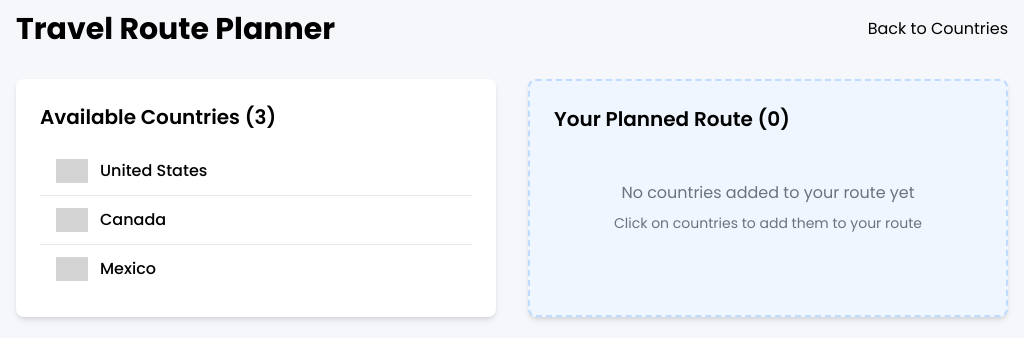
Test case: CountryRoutePlanner › removes country from route when delete button clicked
Click the text "United States": {"x": 154, "y": 171} [100, 159, 207, 183]
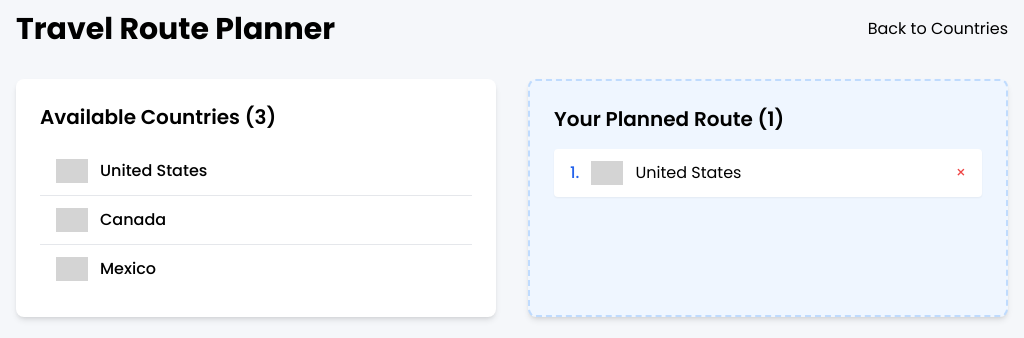
Click the button "×": {"x": 961, "y": 173} [956, 161, 966, 185]
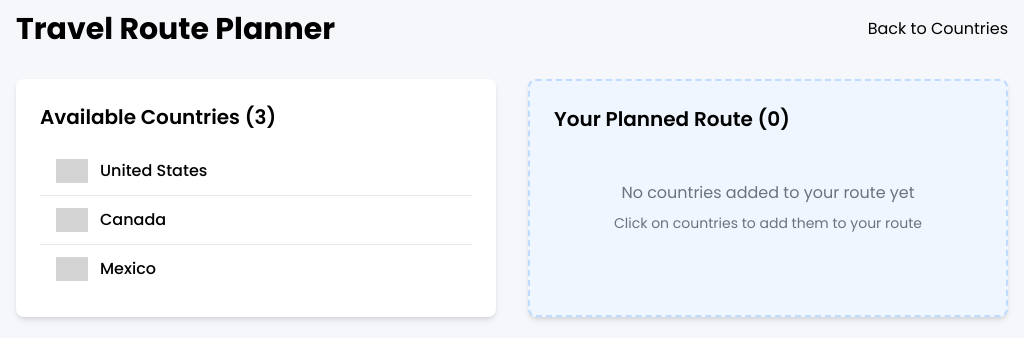
Check: the text "No countries added to your route yet" is shown, box [621, 181, 915, 204]
